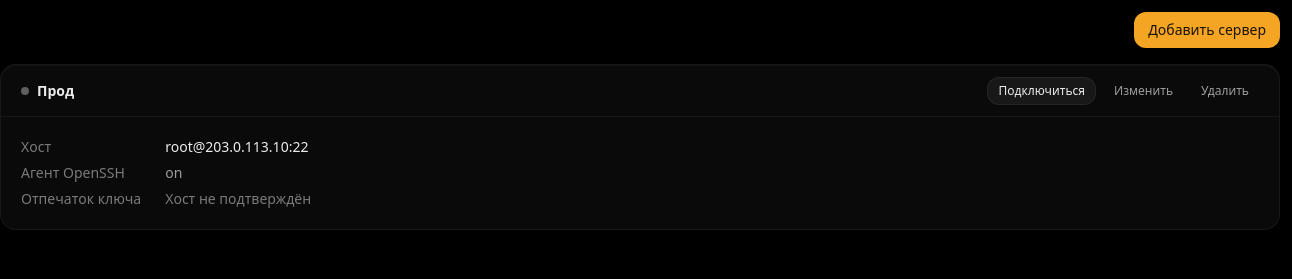
it: состояния соединения › отказ подключения виден в карточке
Click the button "Подключиться". click: (1042, 90)
box: [987, 76, 1096, 104]
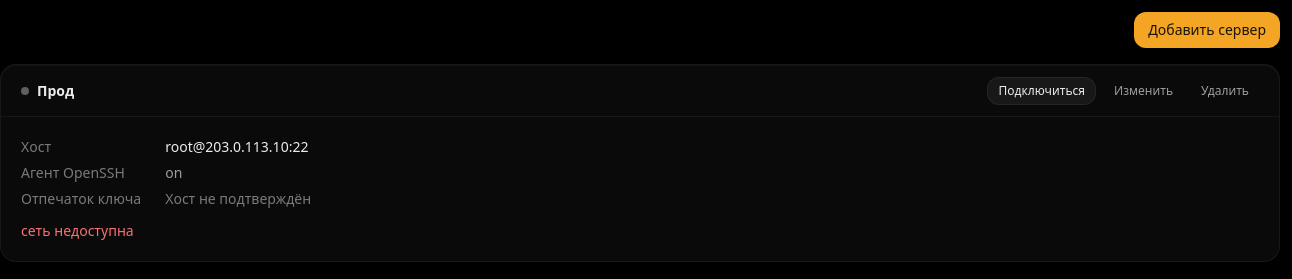
Now the text "сеть недоступна" is shown, box [21, 221, 134, 240]
